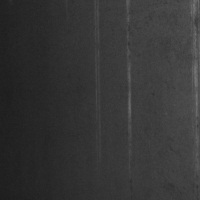scratches: (123, 4, 135, 176), (91, 1, 103, 162)
